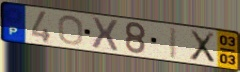4: (30, 10, 53, 44)
8: (124, 22, 147, 55)
I: (167, 26, 179, 61)
O: (57, 15, 85, 47)
X: (91, 16, 120, 53), (189, 29, 217, 65)
